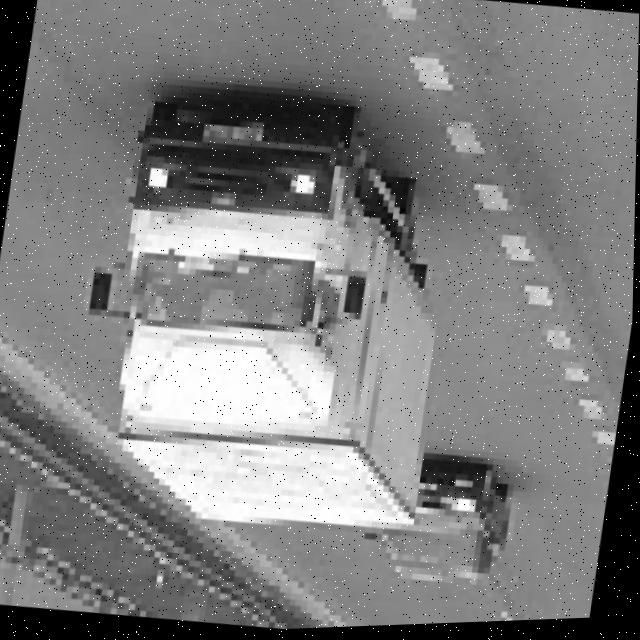truck: (55, 62, 410, 455)
